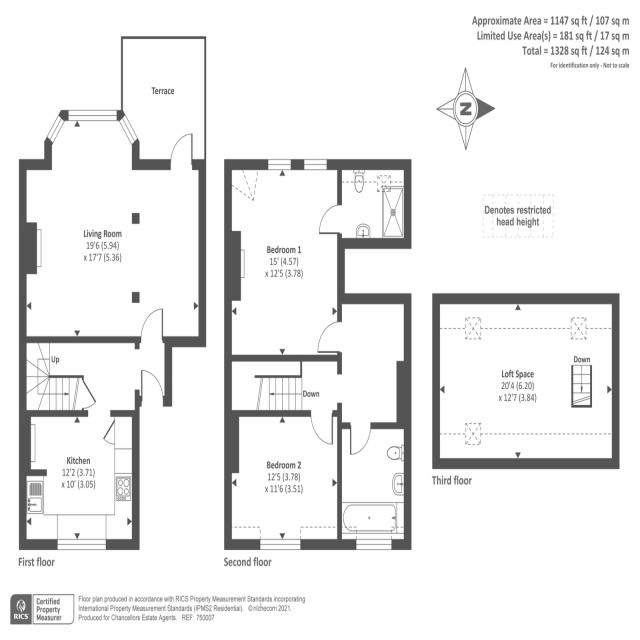DOOR: (169, 133, 194, 170), (140, 369, 164, 407), (317, 320, 342, 354), (140, 308, 164, 343), (310, 410, 333, 445), (349, 422, 372, 456), (319, 204, 342, 235)
ROOM: (19, 110, 206, 348), (224, 159, 345, 362), (19, 409, 140, 550), (224, 410, 342, 550)
WINDOW: (56, 538, 107, 551), (118, 113, 138, 146), (68, 109, 117, 122), (46, 114, 66, 145), (355, 538, 392, 551), (259, 539, 301, 550), (267, 159, 291, 170), (304, 159, 327, 170)
